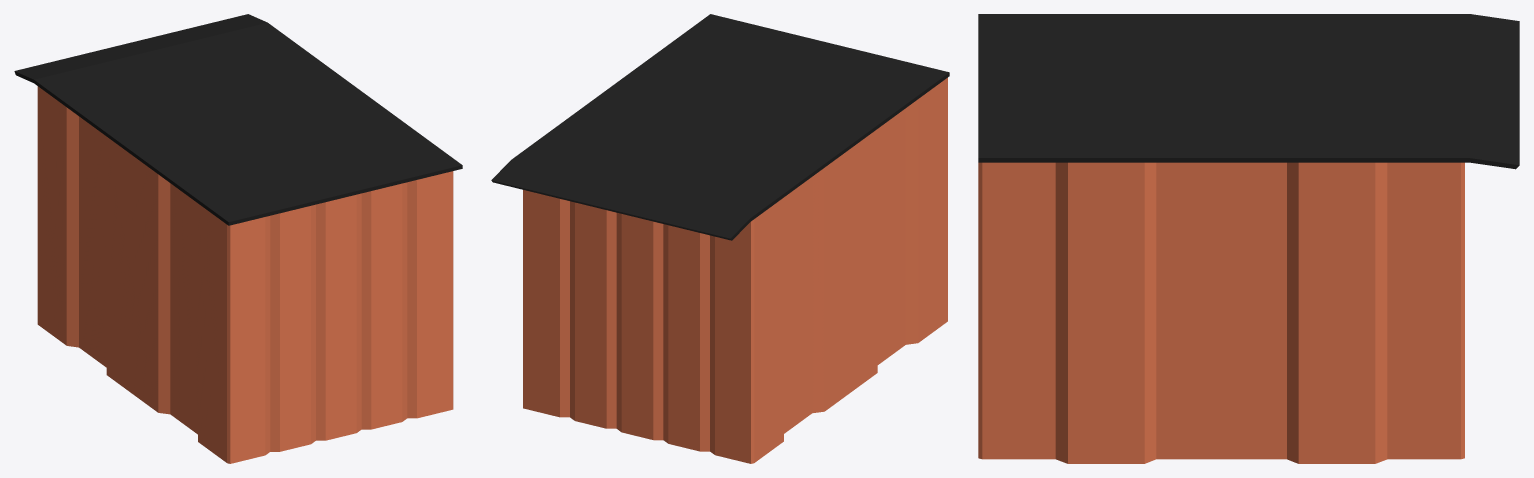
Rendered from Brick_Bitumen.fbx.
The picture shows the model from 3 angles, left to right: view 1: azimuth 30°, elevation 25°; view 2: azimuth 150°, elevation 25°; view 3: azimuth 270°, elevation 25°; orthographic projection. The views are drawn at different scales.
Parts seen in each view (by area): view 1: Außenziegel template.005; view 2: Außenziegel template.005; view 3: Außenziegel template.005.
Boxes of the visible parts, <box> form: Außenziegel template.005: <box>14,14,462,463</box>; Außenziegel template.005: <box>491,14,949,463</box>; Außenziegel template.005: <box>978,14,1519,463</box>.
Size of the model in its own units: 25.62 by 25.35 by 40.66.
